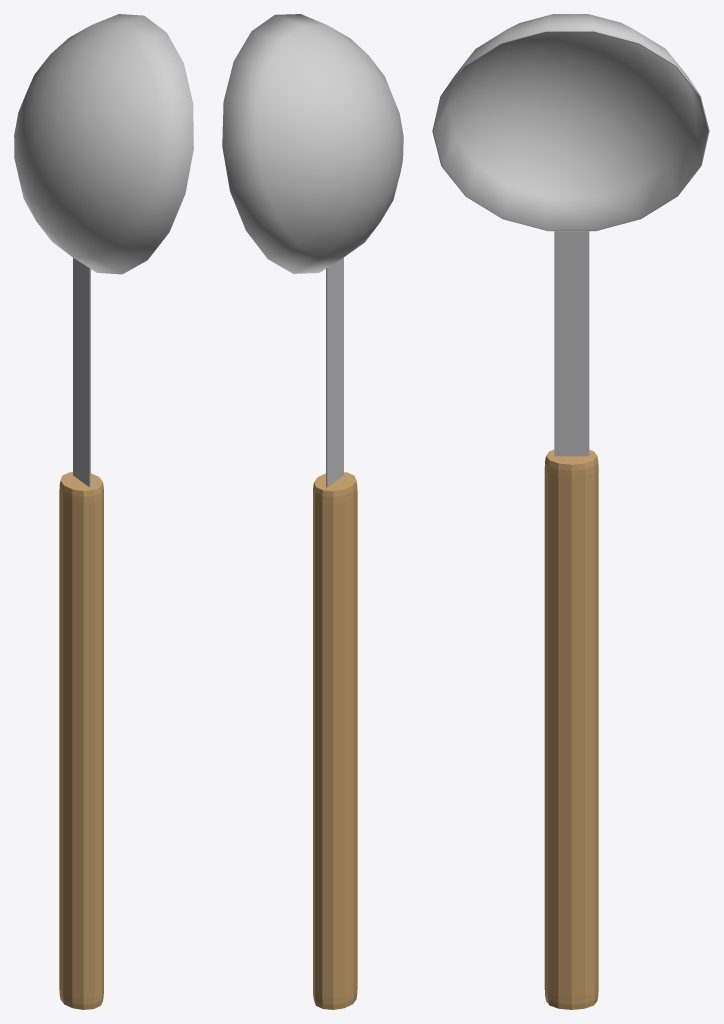
The model's file is Ladle.glb.
The picture shows the model from 3 angles, left to right: view 1: azimuth 30°, elevation 25°; view 2: azimuth 150°, elevation 25°; view 3: azimuth 270°, elevation 25°; orthographic projection. The views are drawn at different scales.
Visible parts, largest first — view 1: Chochla; view 2: Chochla; view 3: Chochla.
Boxes of the visible parts, x1=… form: Chochla: x1=14, y1=14, x2=193, y2=1009; Chochla: x1=222, y1=14, x2=403, y2=1009; Chochla: x1=432, y1=14, x2=709, y2=1009.
Bounding box in the file's own units: 0.0465 × 0.3449 × 0.086.
